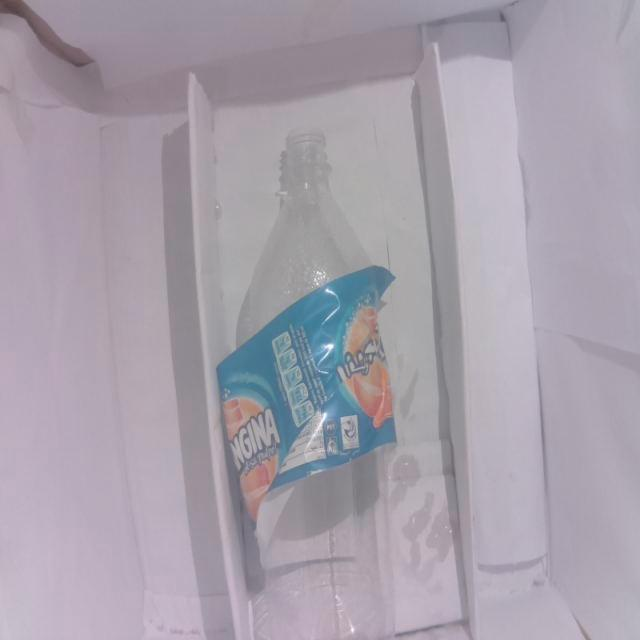bottle: (237, 126, 388, 640)
